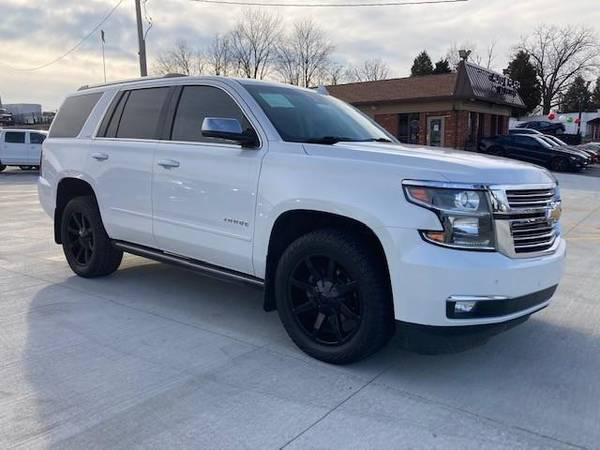Front_Bumper: (375, 225, 566, 325)
Front_Fender: (252, 137, 449, 280)
Front_Right_Door: (155, 142, 268, 279)
Front_Right_Window: (159, 85, 262, 148)
Front_Windshield: (248, 88, 401, 146)
Grille: (488, 182, 562, 258)
Hood: (305, 143, 557, 188)
Rear_Fender: (36, 92, 103, 219)
Rear_Right_Door: (80, 137, 161, 248)
Rear_Right_Window: (95, 85, 177, 139)
Right_Headlight: (401, 179, 498, 250)
Roof: (65, 75, 326, 143)
Wheel: (272, 224, 392, 357), (58, 196, 122, 279)
